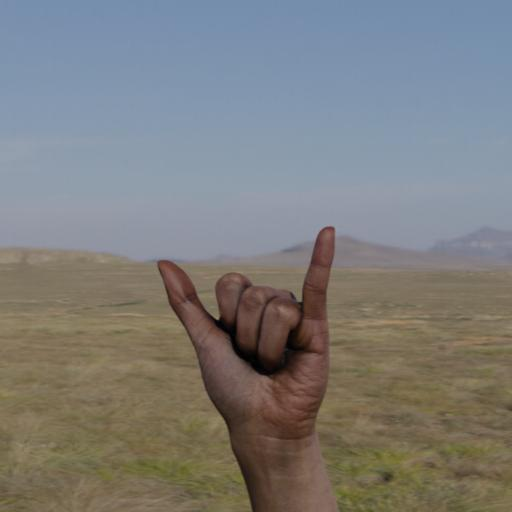Y: (147, 214, 353, 512)
